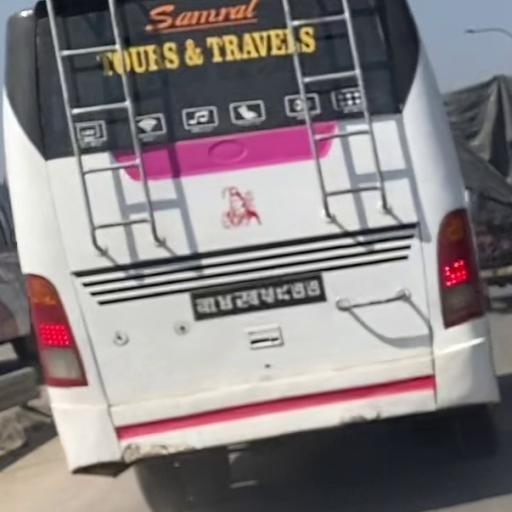license_plate: (187, 268, 331, 321)
